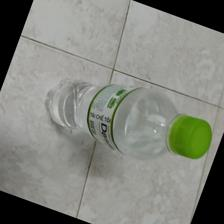Dasani: (43, 76, 213, 160)
